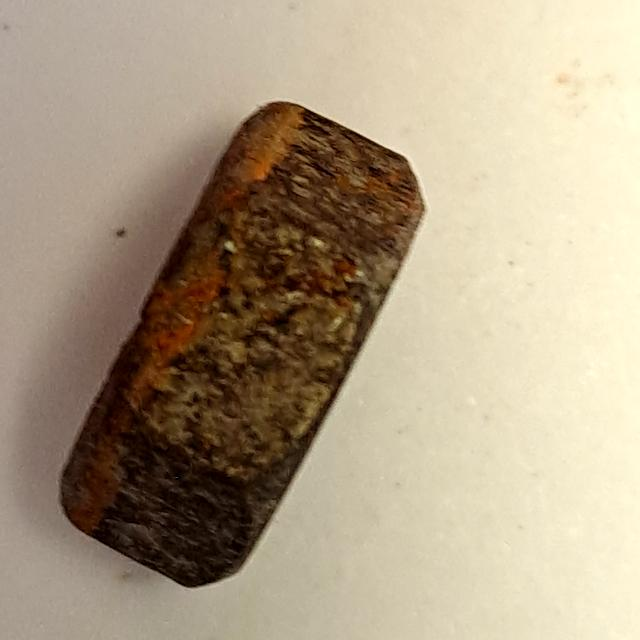Side_Rust: (36, 85, 447, 603)
